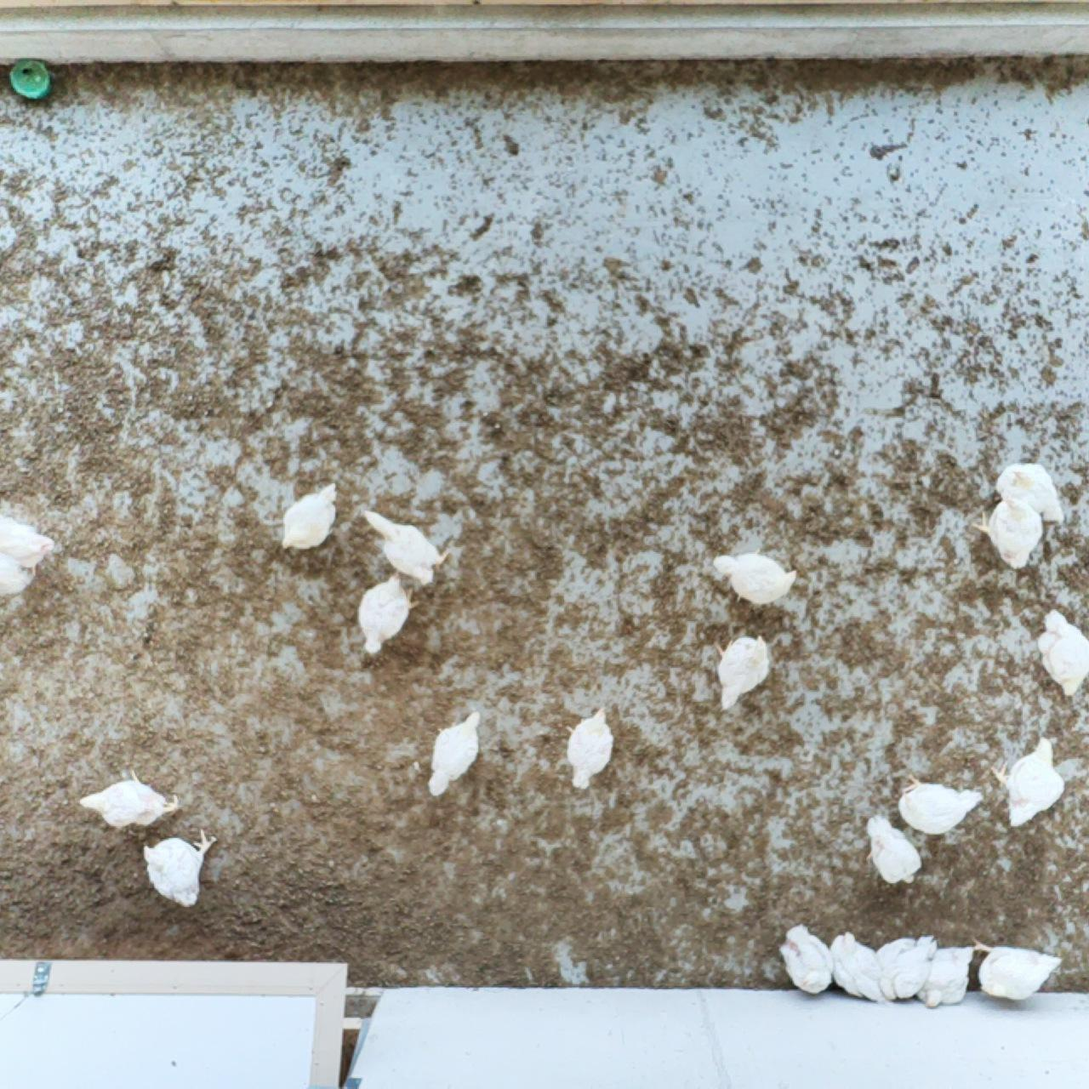chicken: (988, 731, 1069, 830), (359, 505, 454, 587), (967, 933, 1066, 1004), (76, 767, 184, 832), (140, 828, 220, 909), (970, 492, 1047, 573), (897, 771, 988, 838), (422, 707, 487, 799), (709, 550, 801, 614), (1028, 606, 1089, 701), (355, 571, 422, 656), (0, 507, 58, 603), (710, 630, 776, 714), (991, 461, 1070, 531), (859, 811, 926, 887), (874, 931, 943, 1003), (562, 703, 617, 793), (775, 920, 836, 996), (280, 480, 342, 553), (827, 929, 888, 1003), (913, 941, 978, 1010)
